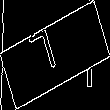L_S: (38, 26, 72, 84)
